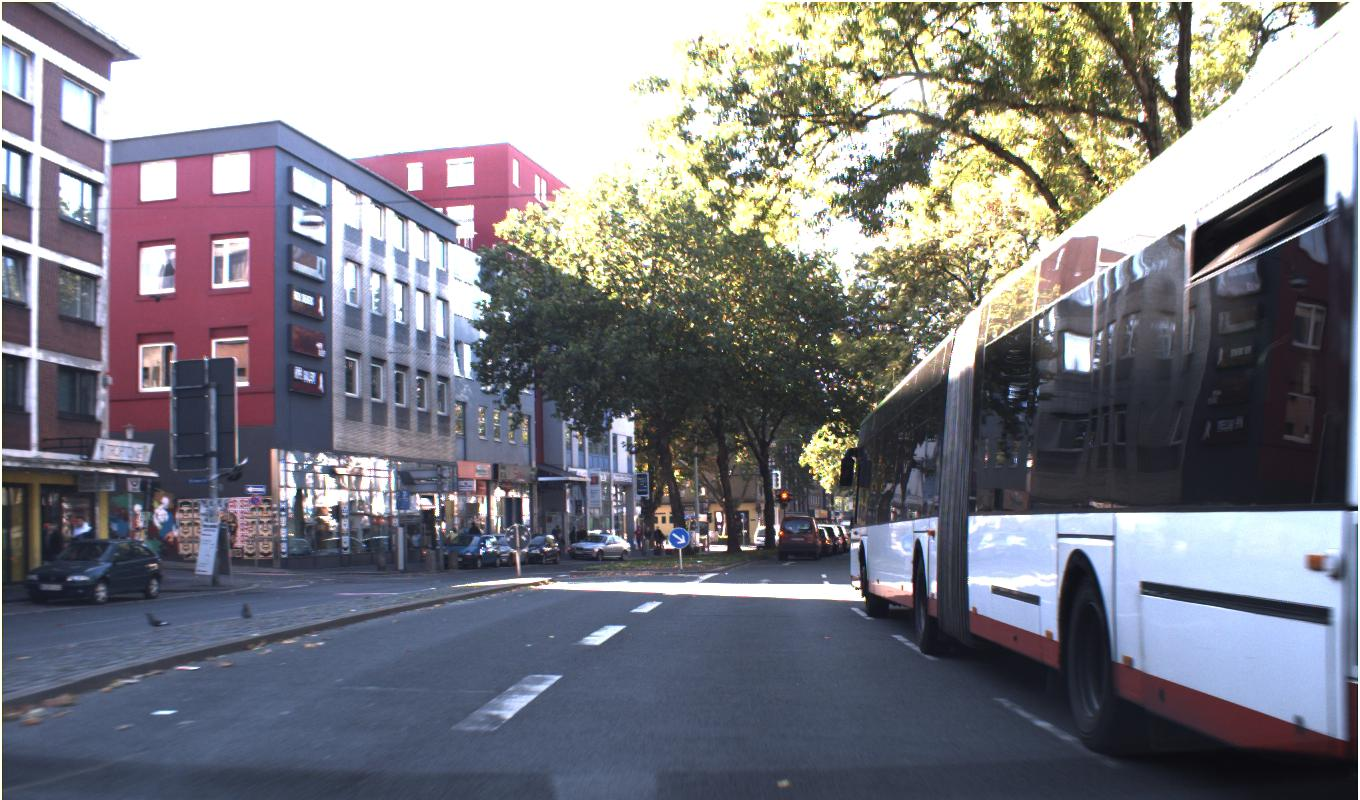mandatory: (668, 527, 690, 548)
